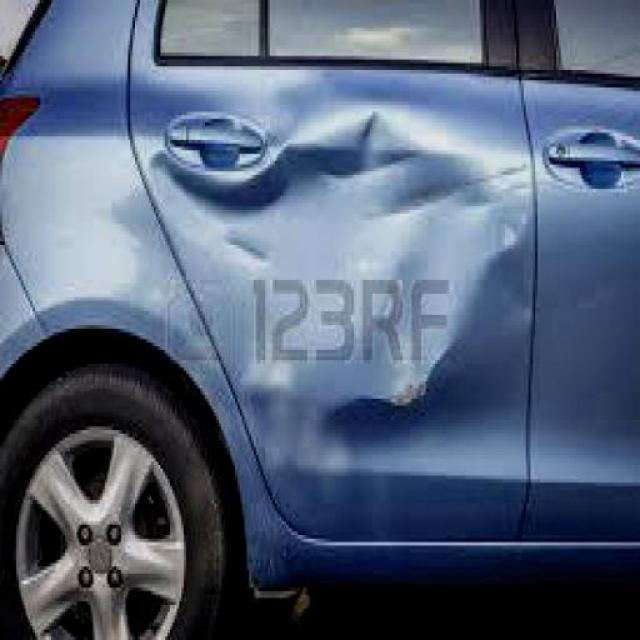Car-Damage: (144, 112, 540, 432)
